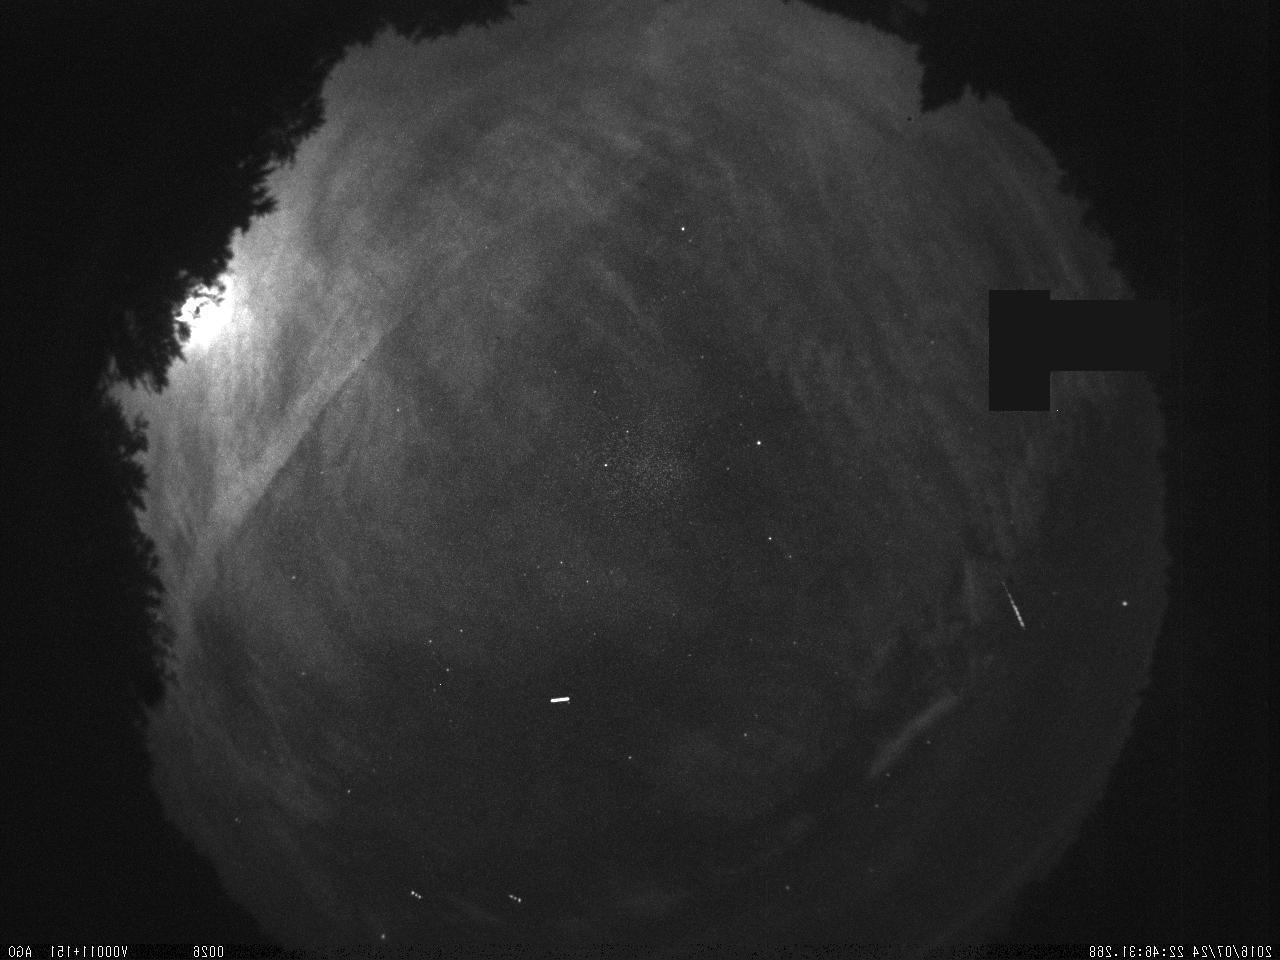meteor: (990, 572, 1037, 638)
satelite: (543, 691, 572, 712), (404, 886, 425, 904), (502, 889, 524, 906)
